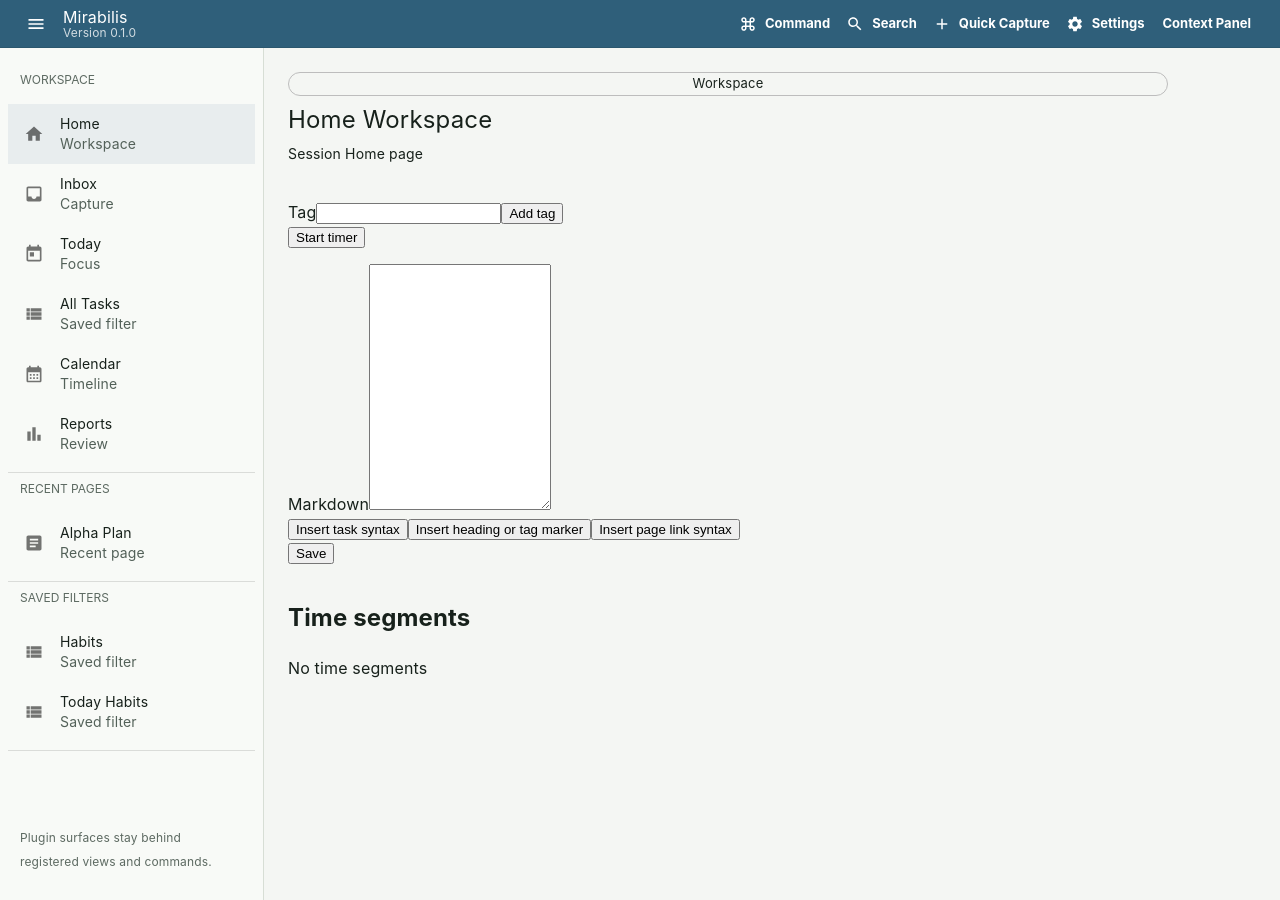
TASK-041 Search dialog › renders only bounded Search result DTO fields and navigates selected results through the normal page editor route
Click the button "Search" at (882, 24), box [843, 8, 922, 39]
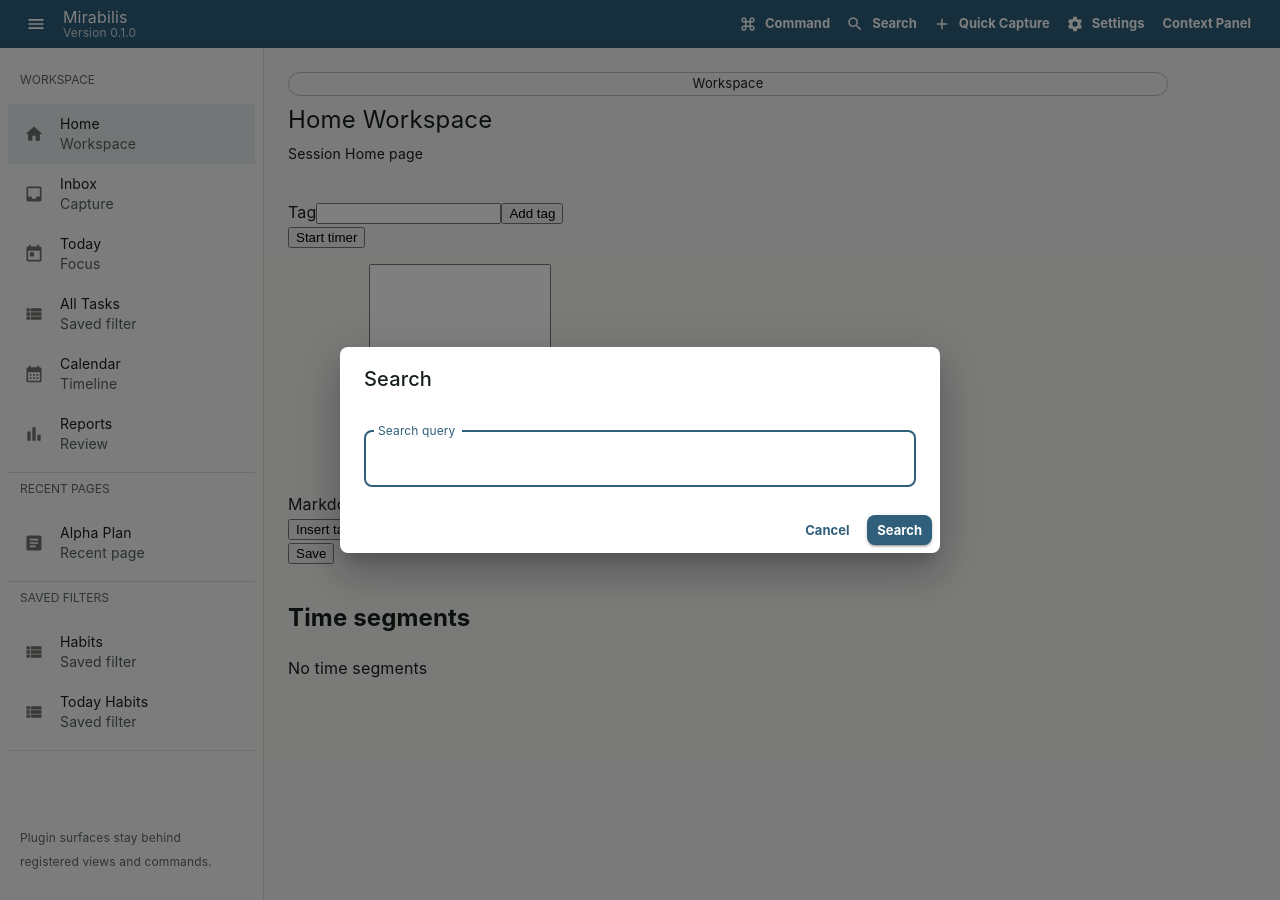
Type "alpha" into the field labelled "Search query" at (640, 459), box [364, 431, 916, 487]
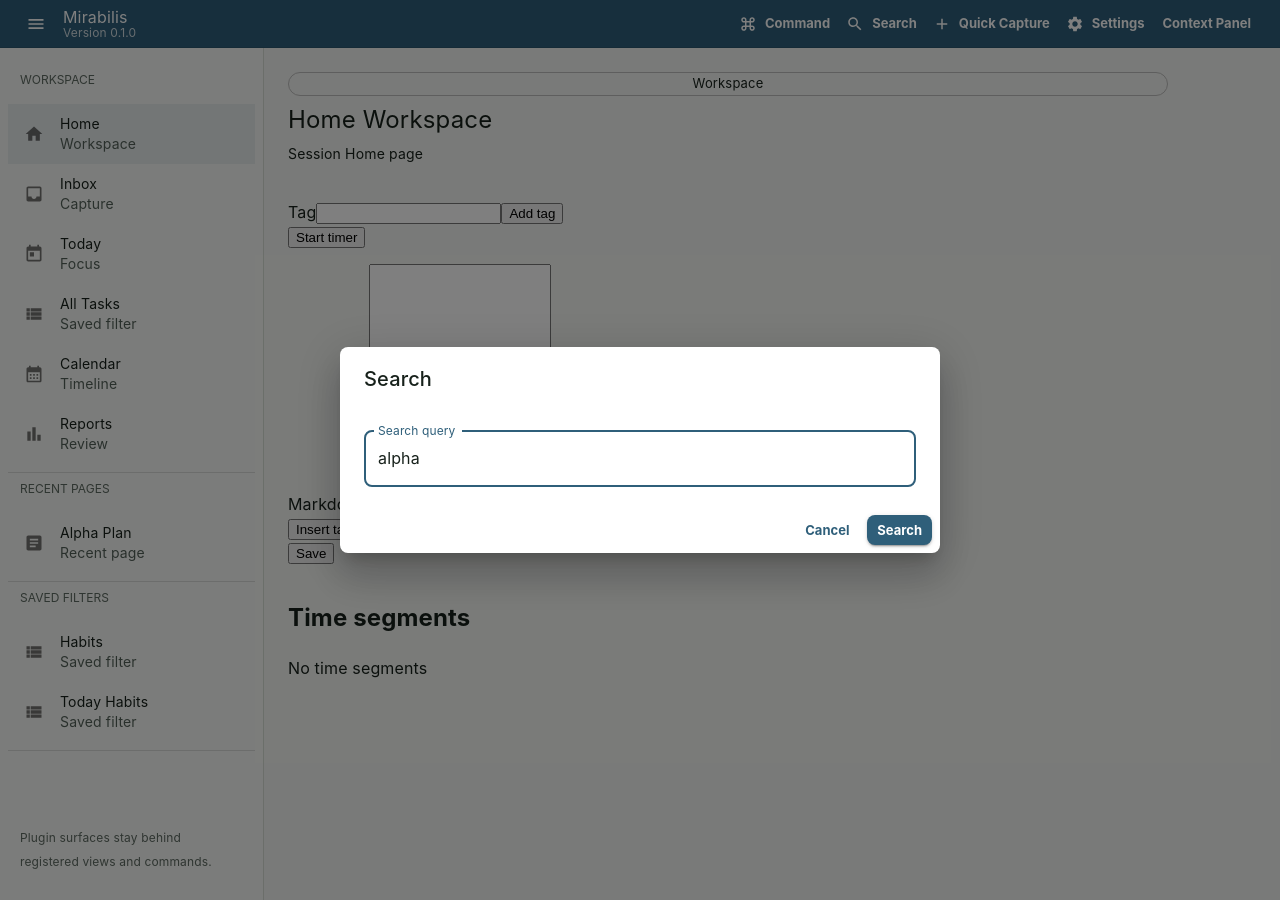
Press Enter
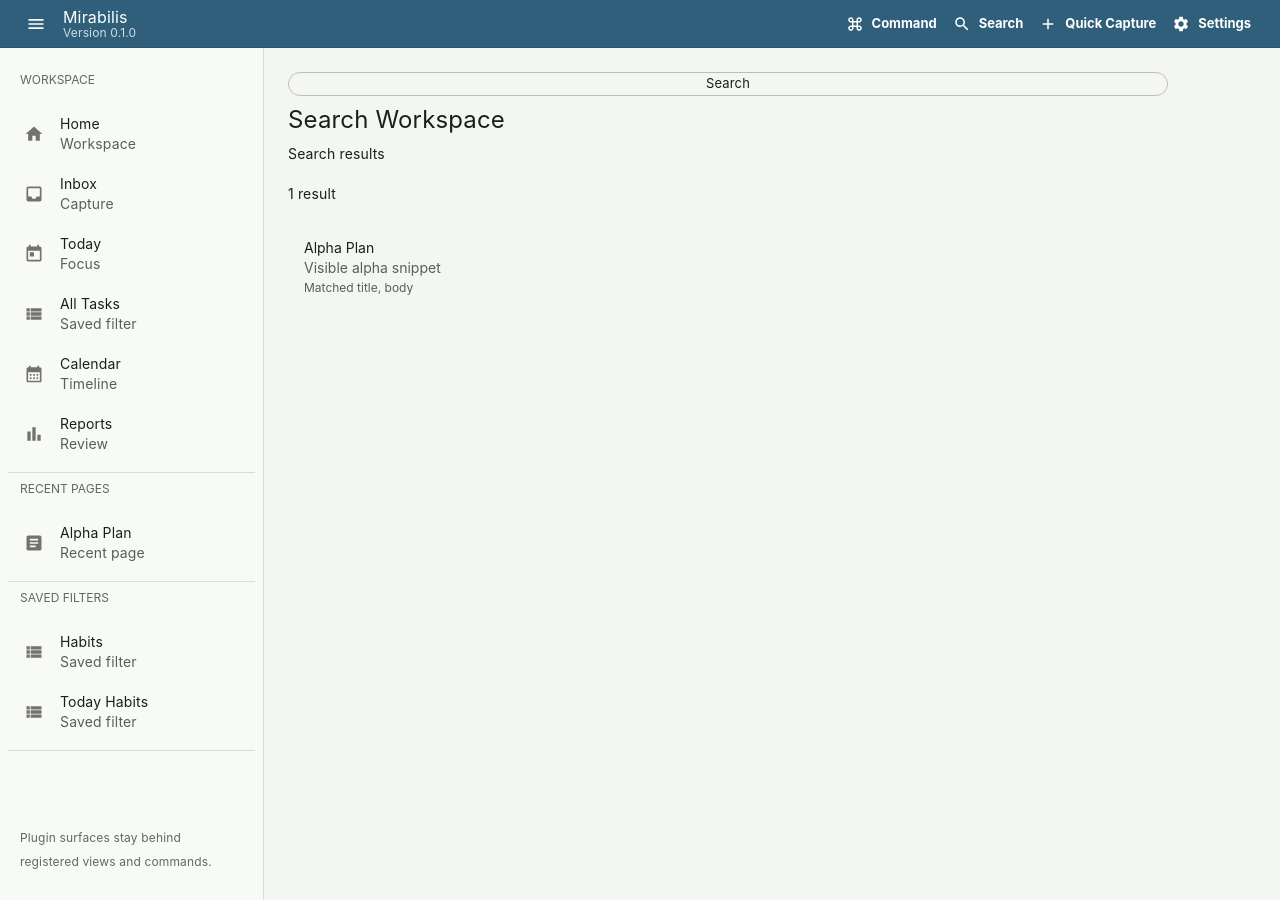
Result: the list item is shown
Result: the message reads "1 result" at [288, 185, 336, 202]
Result: the button "Alpha Plan Visible alpha snippet Matched title, body" is shown
Click the button "Alpha Plan Visible alpha snippet Matched title, body" at (339, 248), box [288, 228, 1256, 308]
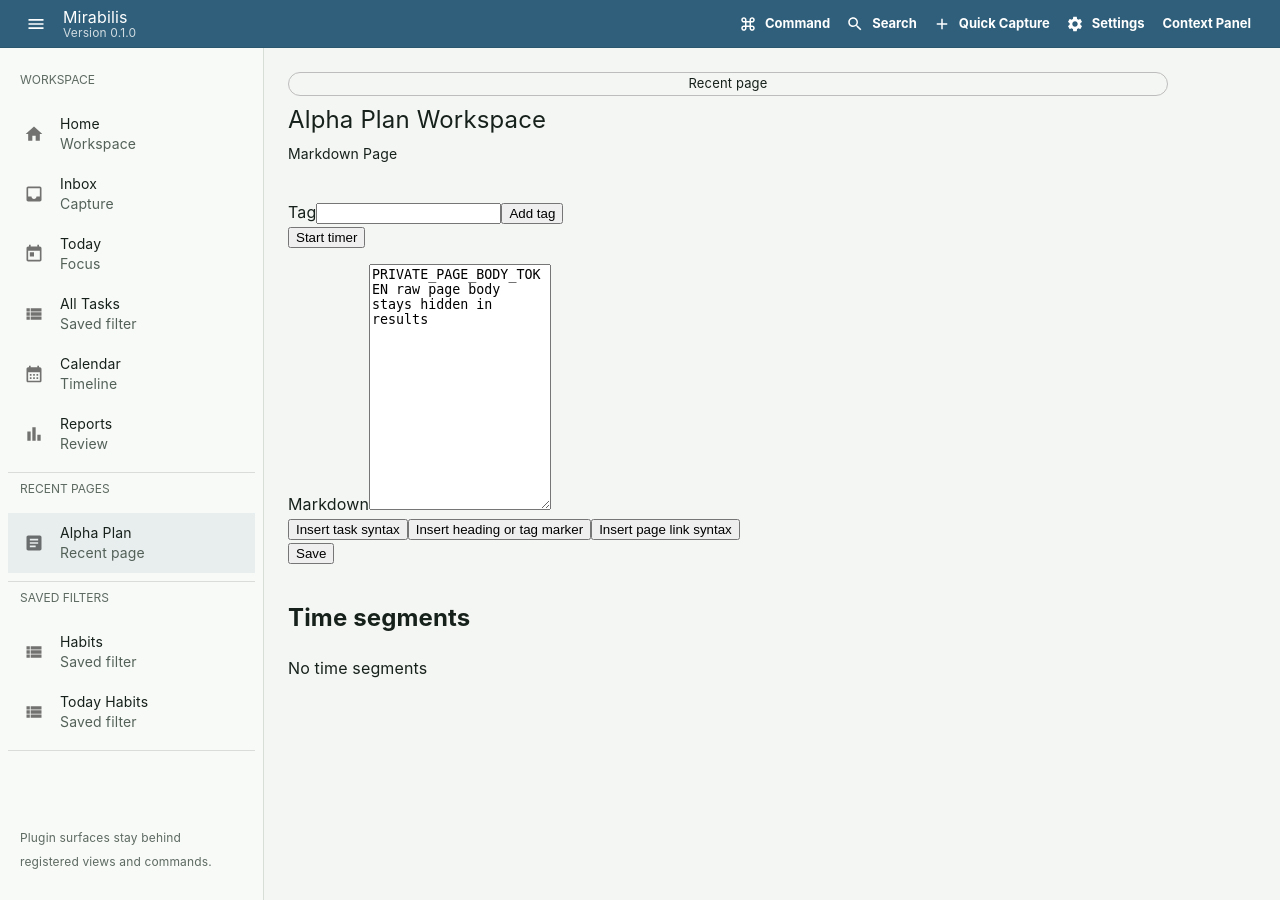
Result: the heading "Alpha Plan Workspace" is shown at [288, 105, 546, 134]
Result: the text box labelled "Markdown" holds "PRIVATE_PAGE_BODY_TOKEN raw page body stays hidden in results" at [369, 264, 551, 510]
